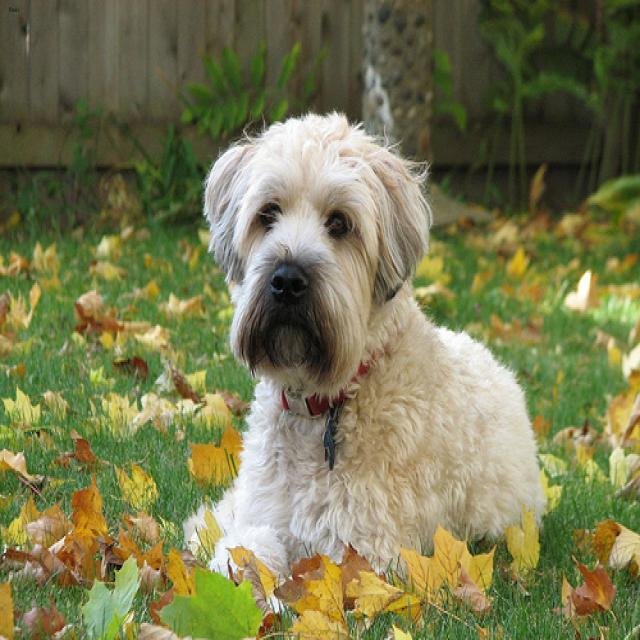dog-wheaten_terrier: (177, 108, 556, 623)
